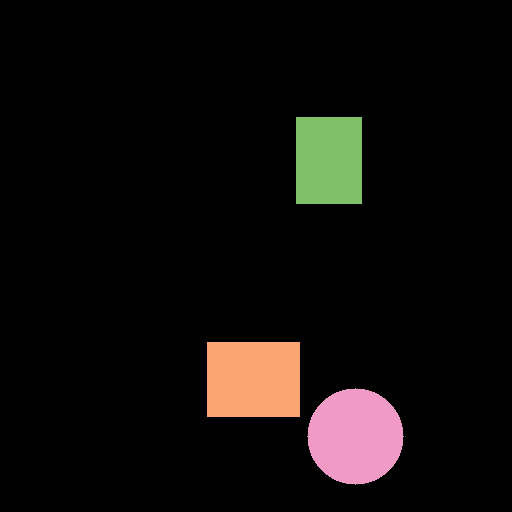circle: (307, 388, 403, 484)
rectangle: (207, 342, 299, 416), (296, 117, 361, 203)
